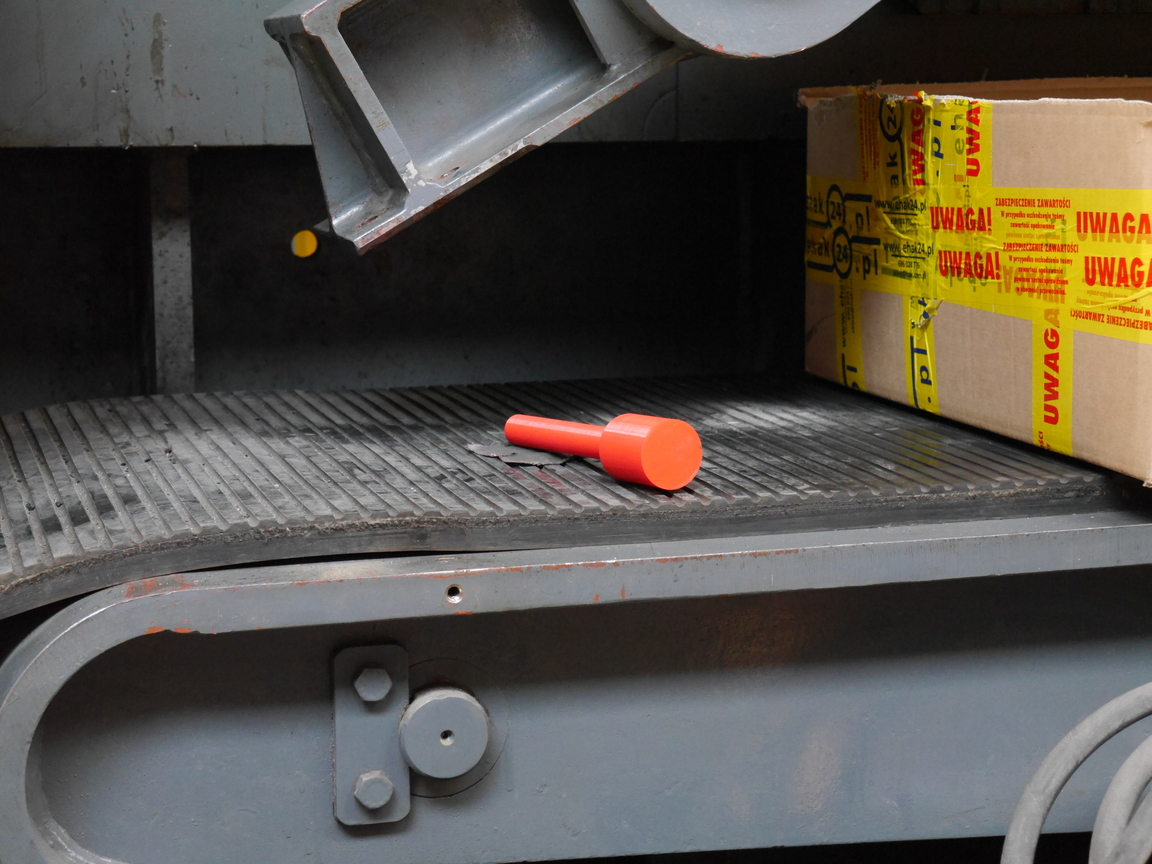cargo_g: (499, 407, 701, 491)
